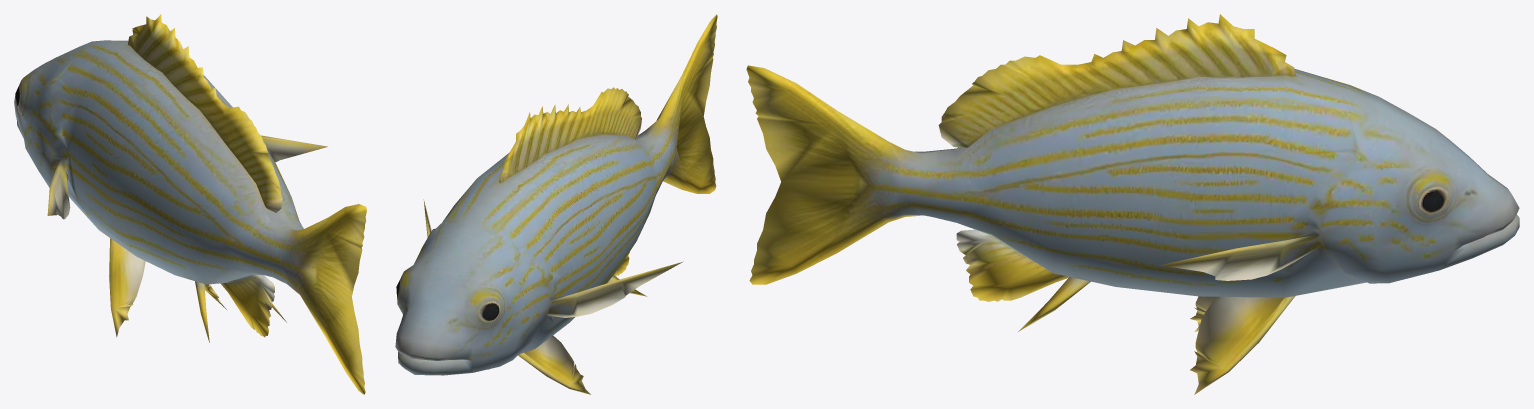
File: kleinbek_knorvis.glb
3 renders of one model, left to right at view 1: azimuth 30°, elevation 25°; view 2: azimuth 150°, elevation 25°; view 3: azimuth 270°, elevation 25°, orthographic. The views are drawn at different scales.
Parts seen in each view (by area): view 1: tripo_node_98f27962-5f3d-4630-81dd-b199671645ac; view 2: tripo_node_98f27962-5f3d-4630-81dd-b199671645ac; view 3: tripo_node_98f27962-5f3d-4630-81dd-b199671645ac.
Boxes of the visible parts, box(x1,y1,x2,y2) form: tripo_node_98f27962-5f3d-4630-81dd-b199671645ac: box(14, 14, 366, 394); tripo_node_98f27962-5f3d-4630-81dd-b199671645ac: box(395, 14, 717, 394); tripo_node_98f27962-5f3d-4630-81dd-b199671645ac: box(746, 14, 1519, 394).
Bounding box in the file's own units: 0.9765 × 1 × 2.
1 material, 1 textured.
